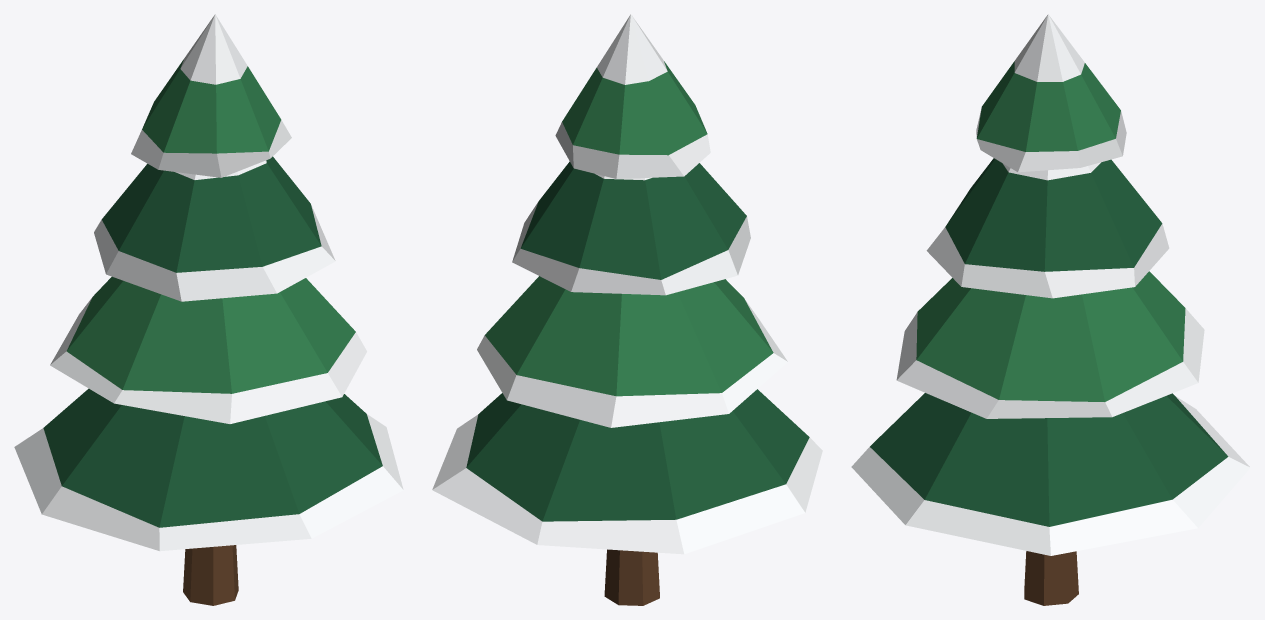
The model's file is SnowyPineTree.fbx.
3 views of the same model, side by side, from view 1: azimuth 30°, elevation 25°; view 2: azimuth 150°, elevation 25°; view 3: azimuth 270°, elevation 25° (orthographic).
Parts seen in each view (by area): view 1: SnowyPineTree; view 2: SnowyPineTree; view 3: SnowyPineTree.
Part boxes in pixels (x1,y1,x2,y2): SnowyPineTree: [14, 14, 403, 605]; SnowyPineTree: [432, 14, 822, 605]; SnowyPineTree: [851, 14, 1250, 605].
Size of the model in its own units: 8.38 by 13.39 by 8.34.
1 material, 1 textured.
